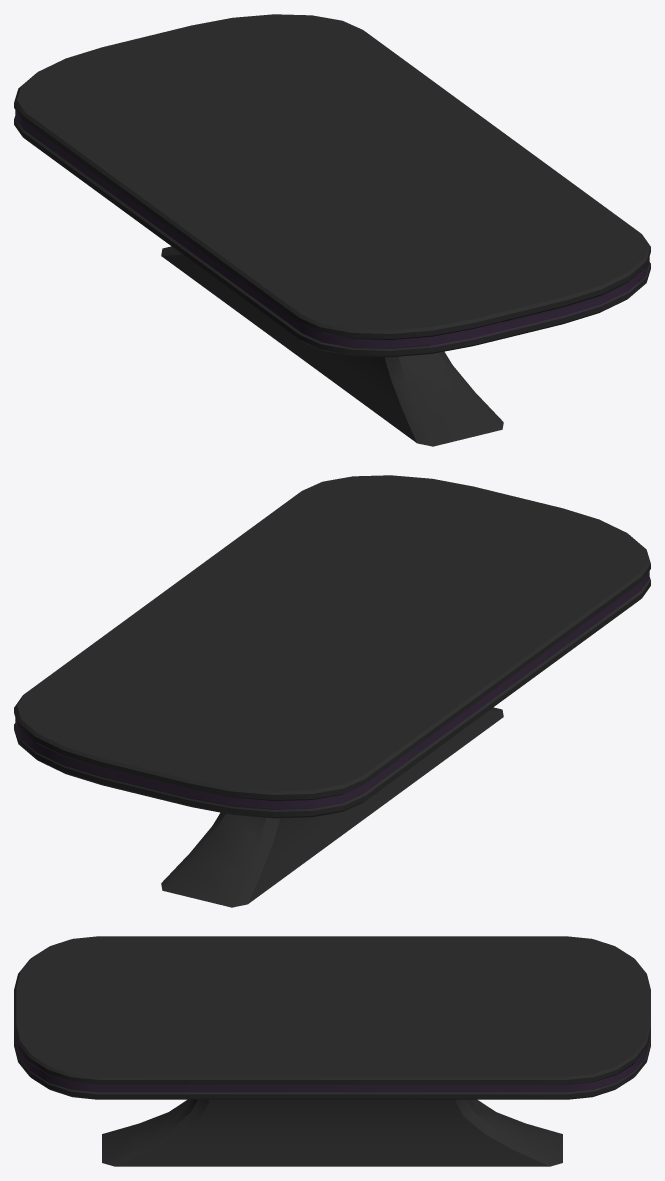
File: RS_table_2.fbx
3 views of the same model, one above another, from view 1: azimuth 30°, elevation 25°; view 2: azimuth 150°, elevation 25°; view 3: azimuth 270°, elevation 25° (orthographic). The views are drawn at different scales.
Parts seen in each view (by area): view 1: Куб; view 2: Куб; view 3: Куб.
Part boxes in pixels (x1,y1,x2,y2): Куб: (14,14,650,446); Куб: (14,475,650,907); Куб: (14,936,650,1166).
Bounding box in the file's own units: 300 × 139 × 567.
